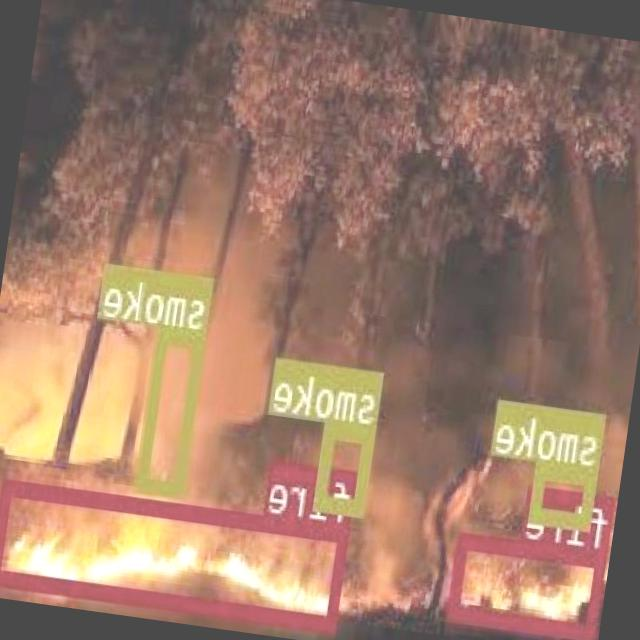fire: (0, 476, 351, 629), (450, 532, 610, 638)
smoke: (140, 324, 210, 494), (316, 421, 378, 515), (532, 460, 600, 528)
